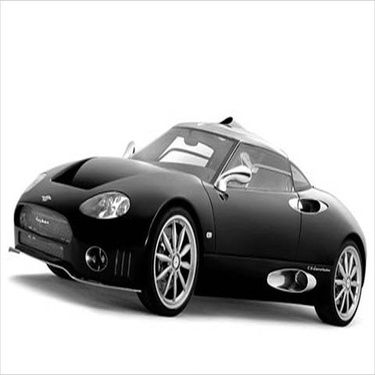car: (3, 107, 367, 329)
